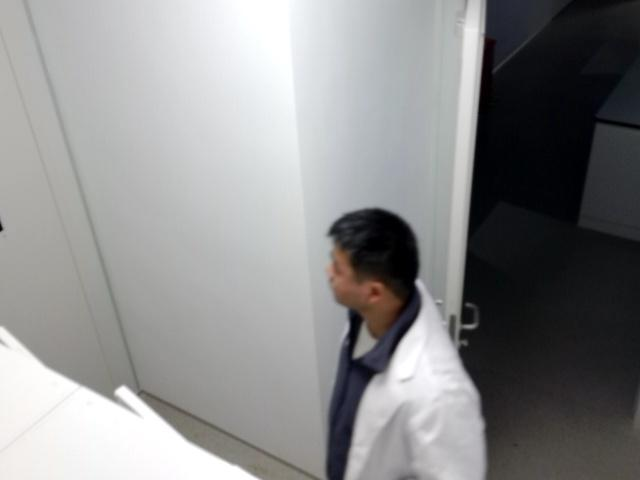Lab_coat: (327, 208, 486, 479)
